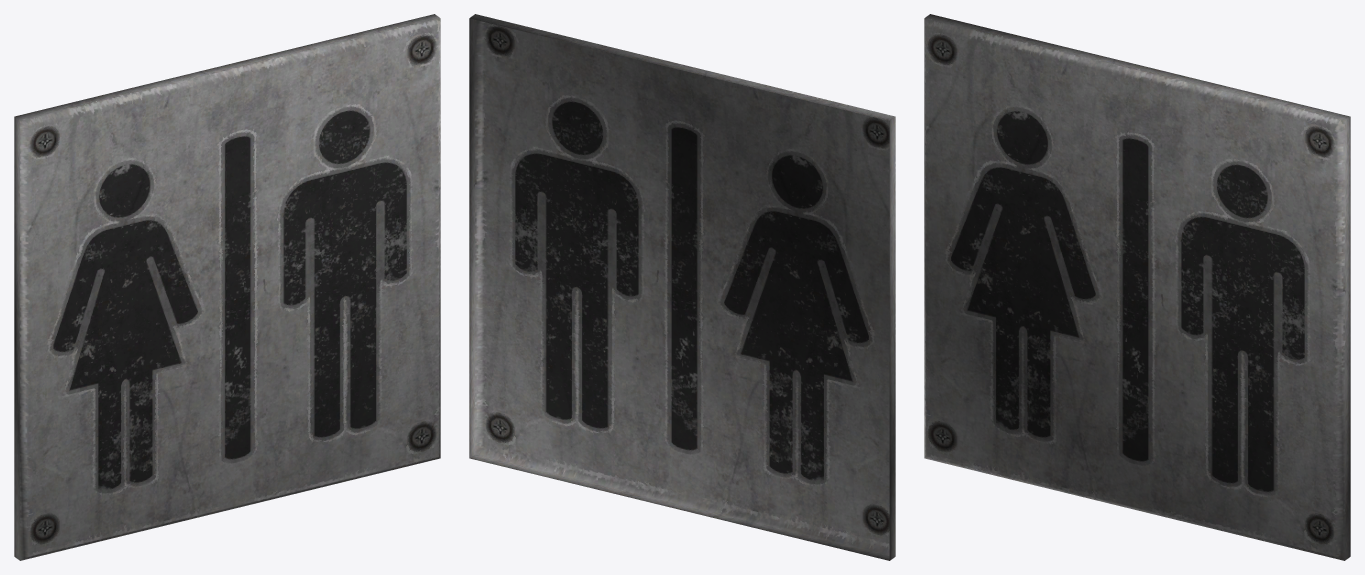
Rendered from sign_toilet.dae.
3 renders of one model, left to right at view 1: azimuth 30°, elevation 25°; view 2: azimuth 150°, elevation 25°; view 3: azimuth 330°, elevation 25°, orthographic.
Visible parts, largest first — view 1: pCube1; view 2: pCube1; view 3: pCube1.
Part boxes in pixels (x1,y1,x2,y2): pCube1: (14,14,440,560); pCube1: (469,14,895,560); pCube1: (924,14,1350,560).
Bounding box in the file's own units: 0.2547 × 0.2547 × 0.00956.
